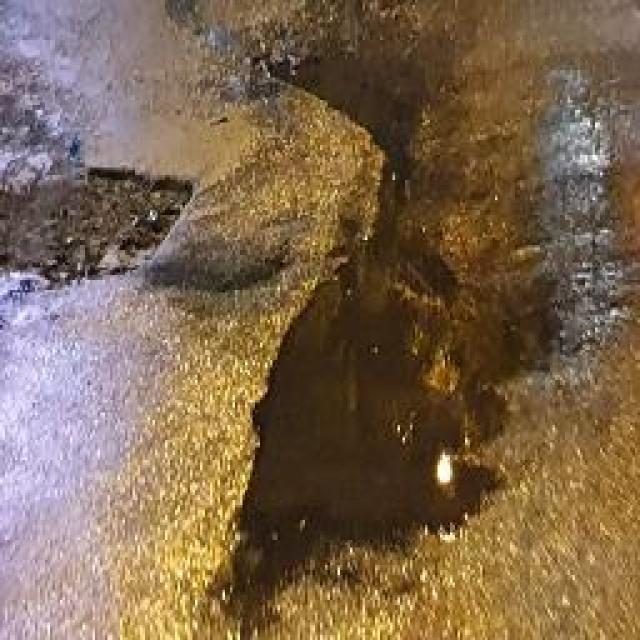puddle: (217, 248, 558, 610)
